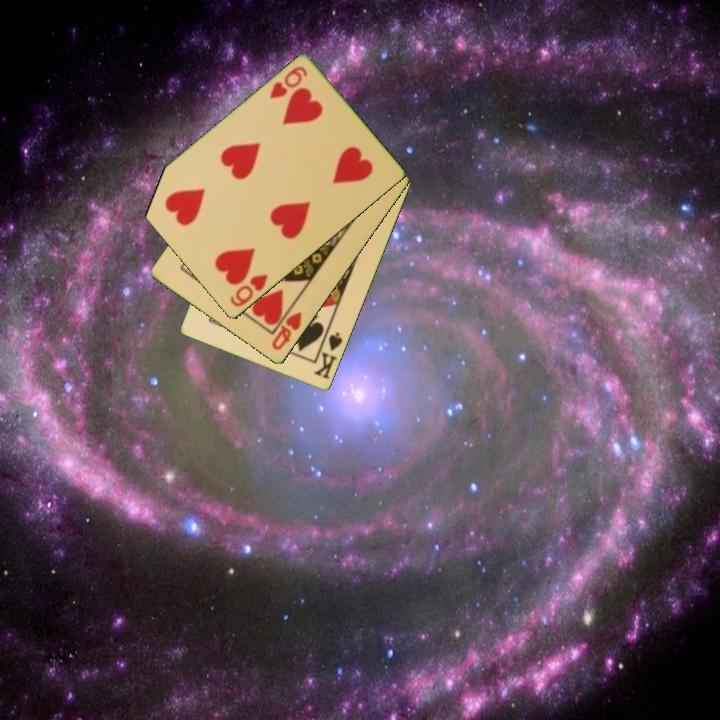6h: (226, 271, 271, 310), (266, 63, 310, 102)
Ks: (311, 329, 346, 382)
Qh: (268, 309, 305, 354)
